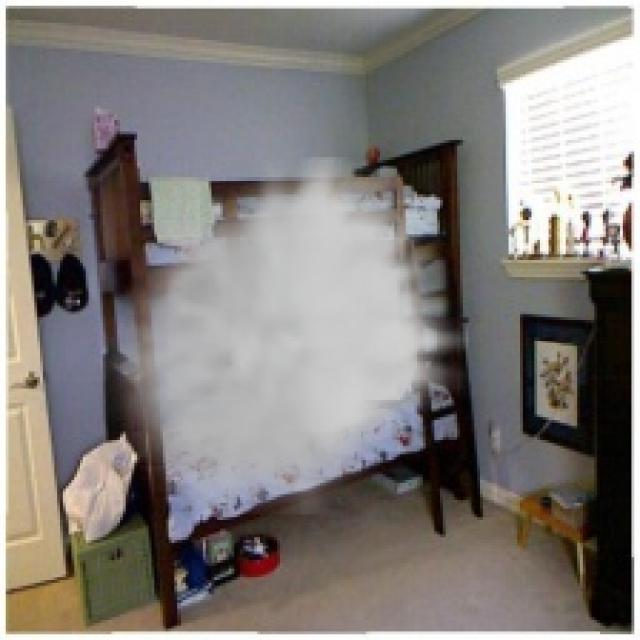smoke: (100, 157, 469, 514)
